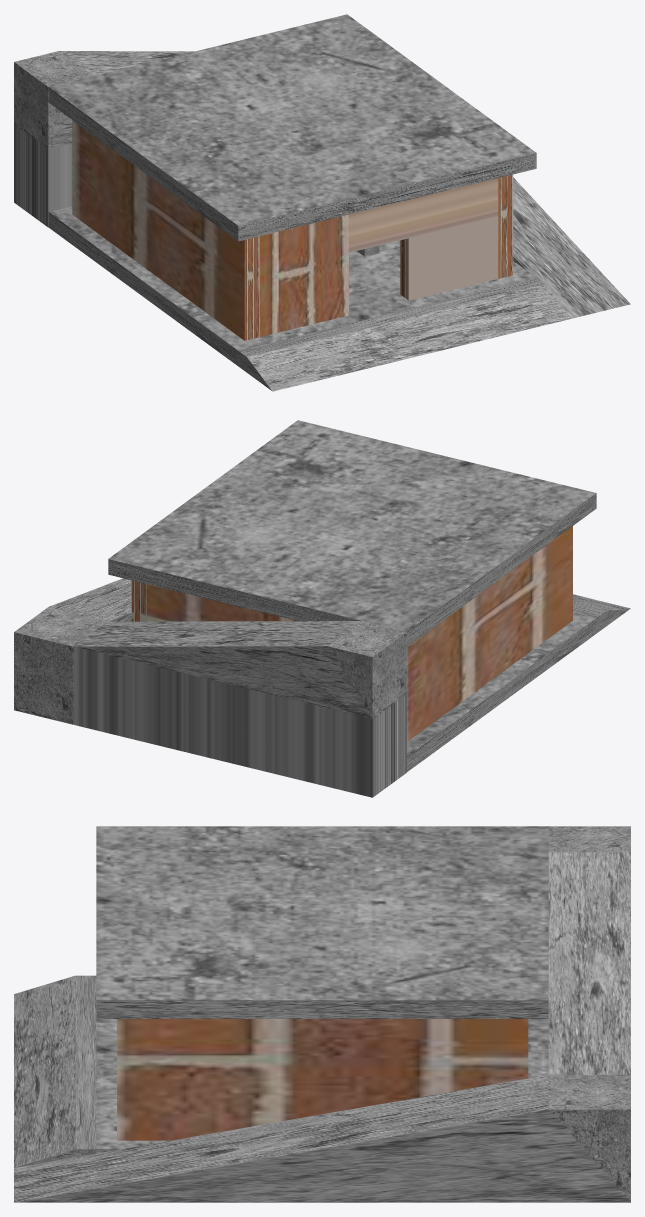
Rendered from nk_construct.obj.
The picture shows the model from 3 angles, top to bottom: view 1: azimuth 30°, elevation 25°; view 2: azimuth 150°, elevation 25°; view 3: azimuth 270°, elevation 25°; orthographic projection. The views are drawn at different scales.
Parts seen in each view (by area): view 1: Cube.006, Cube.003, Cube.001, Cube.005, Cube, Cube.008, Cube.007, Cube.002; view 2: Cube.006, Cube.008, Cube.001, Cube.007, Cube, Cube.004, Cube.005, Cube.002; view 3: Cube.006, Cube.007, Cube.002, Cube.008, Cube.005, Cube.
Part boxes in pixels (x1,y1,x2,y2): Cube.006: (48,14,536,241); Cube.003: (259,178,498,336); Cube.001: (72,120,259,340); Cube.005: (238,278,570,391); Cube: (48,206,536,365); Cube.008: (14,51,194,227); Cube.007: (513,177,630,318); Cube.002: (498,174,513,278); Cube.006: (108,420,596,646); Cube.008: (74,621,406,797); Cube.001: (407,526,572,741); Cube.007: (14,578,131,724); Cube: (407,612,596,771); Cube.004: (146,584,297,621); Cube.005: (573,594,630,632); Cube.002: (131,580,146,621); Cube.006: (96,826,548,1018); Cube.007: (14,1074,630,1202); Cube.002: (117,1019,528,1140); Cube.008: (548,826,630,1074); Cube.005: (14,975,96,1167); Cube: (96,1019,548,1153).
Size of what is drawn, in the model's own units: 24.02 by 9 by 30.
Materials: 2 (2 with a texture image).
